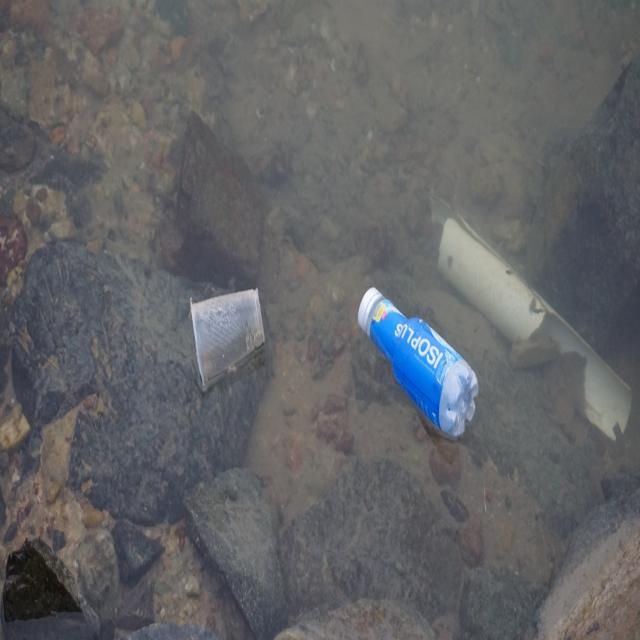Botol Plastik: (355, 279, 481, 451)
Bungkus Minuman: (187, 274, 268, 399)
